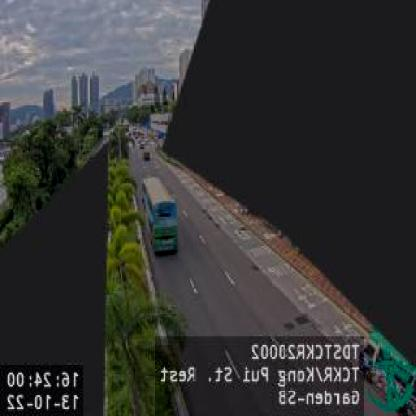Bus: (140, 174, 178, 255)
